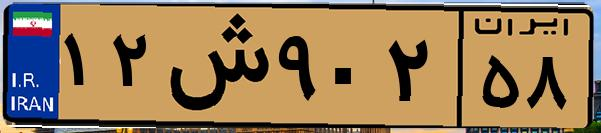0: (330, 28, 385, 110)
1: (57, 26, 110, 100)
2: (385, 28, 445, 110), (110, 28, 158, 98)
5: (475, 38, 525, 113)
8: (525, 38, 570, 115)
9: (270, 28, 330, 110)
ش: (158, 12, 270, 120)
